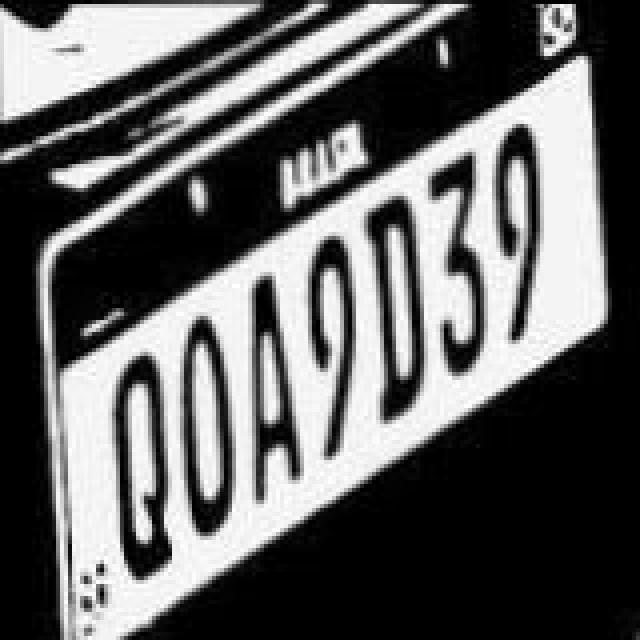3: (428, 150, 488, 378)
9: (302, 230, 358, 462), (494, 118, 546, 346)
A: (244, 270, 300, 502)
D: (362, 192, 426, 424)
O: (176, 316, 232, 540)
Q: (106, 346, 174, 590)
